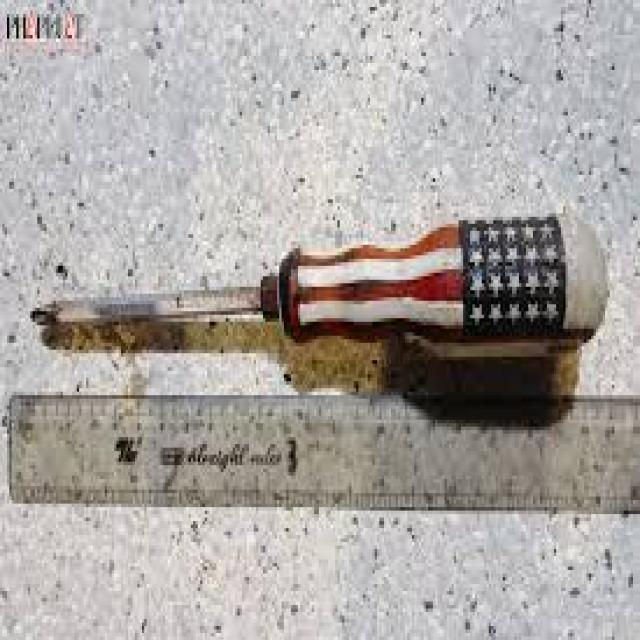screwdriver: (28, 208, 612, 372)
